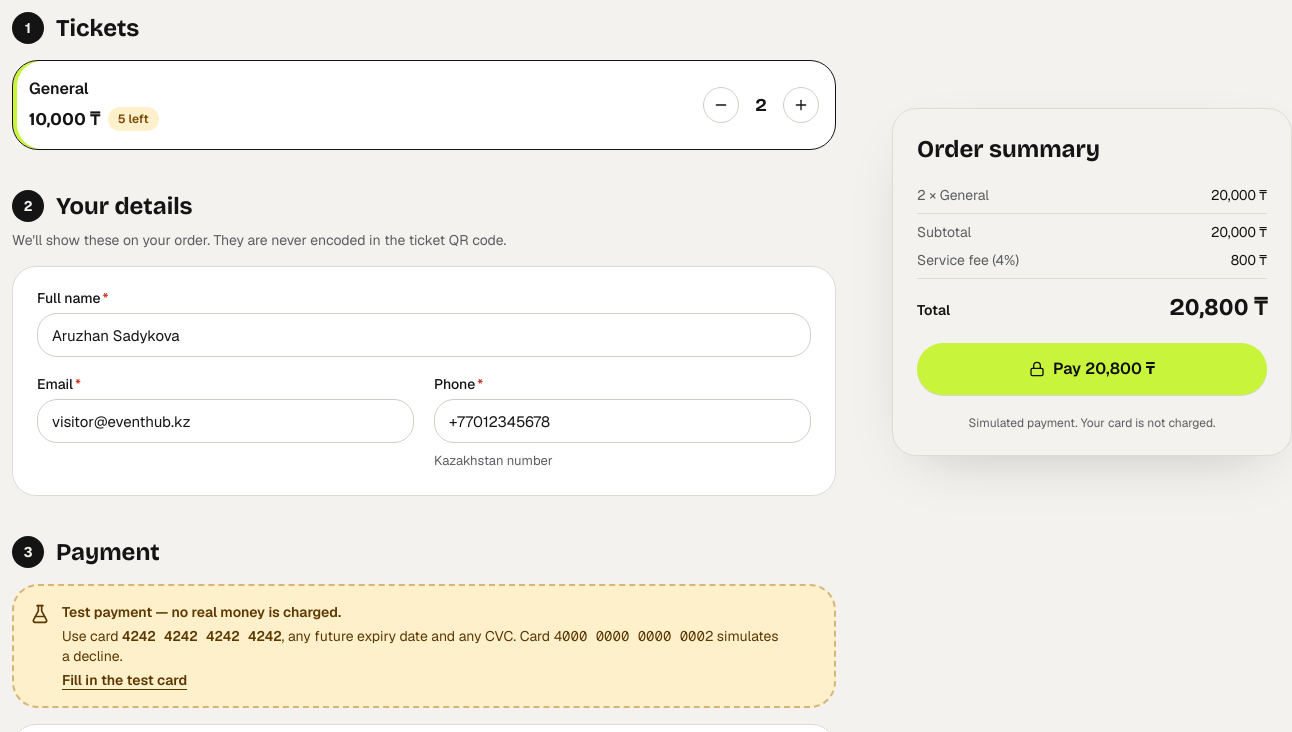
Test: <CheckoutForm /> › shows the server error when tickets run out
Click the button "Fill in the test card" at (125, 680), box [62,670,187,690]
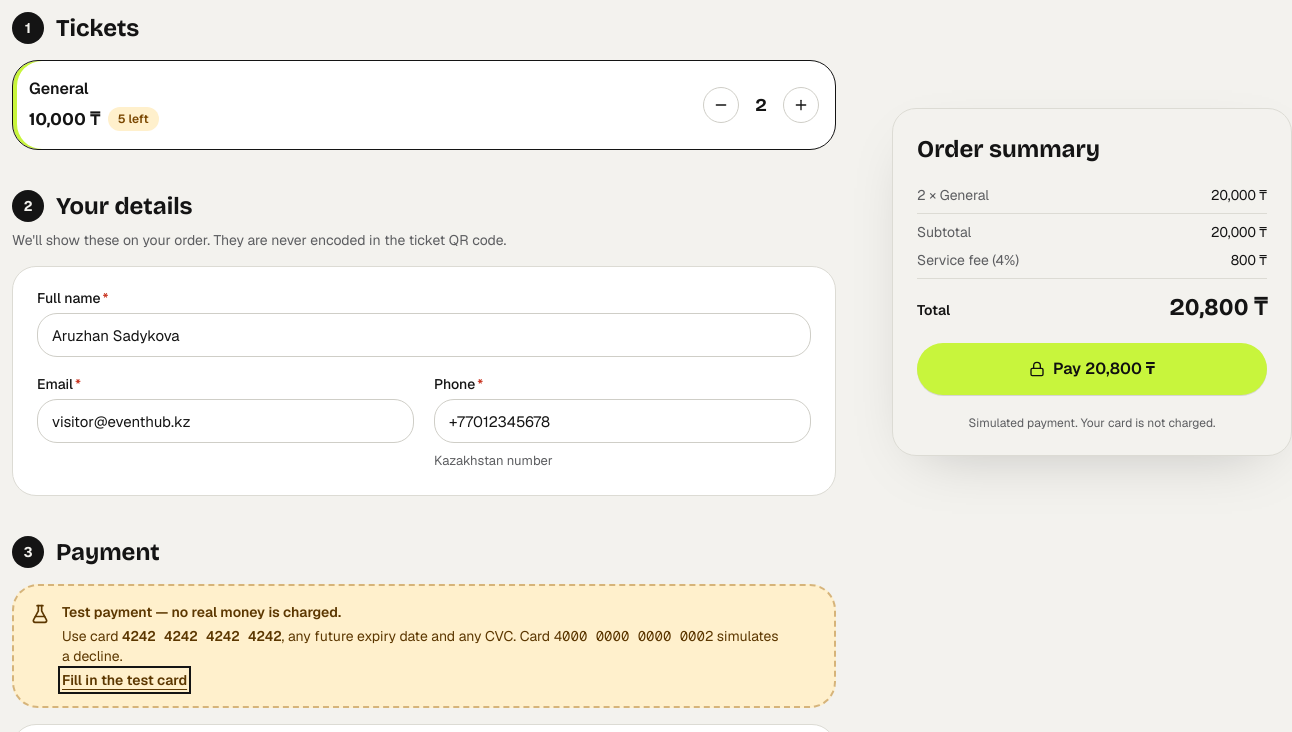
Click the button "Pay 20,800 ₸" at (1092, 369), box [917,343,1267,395]
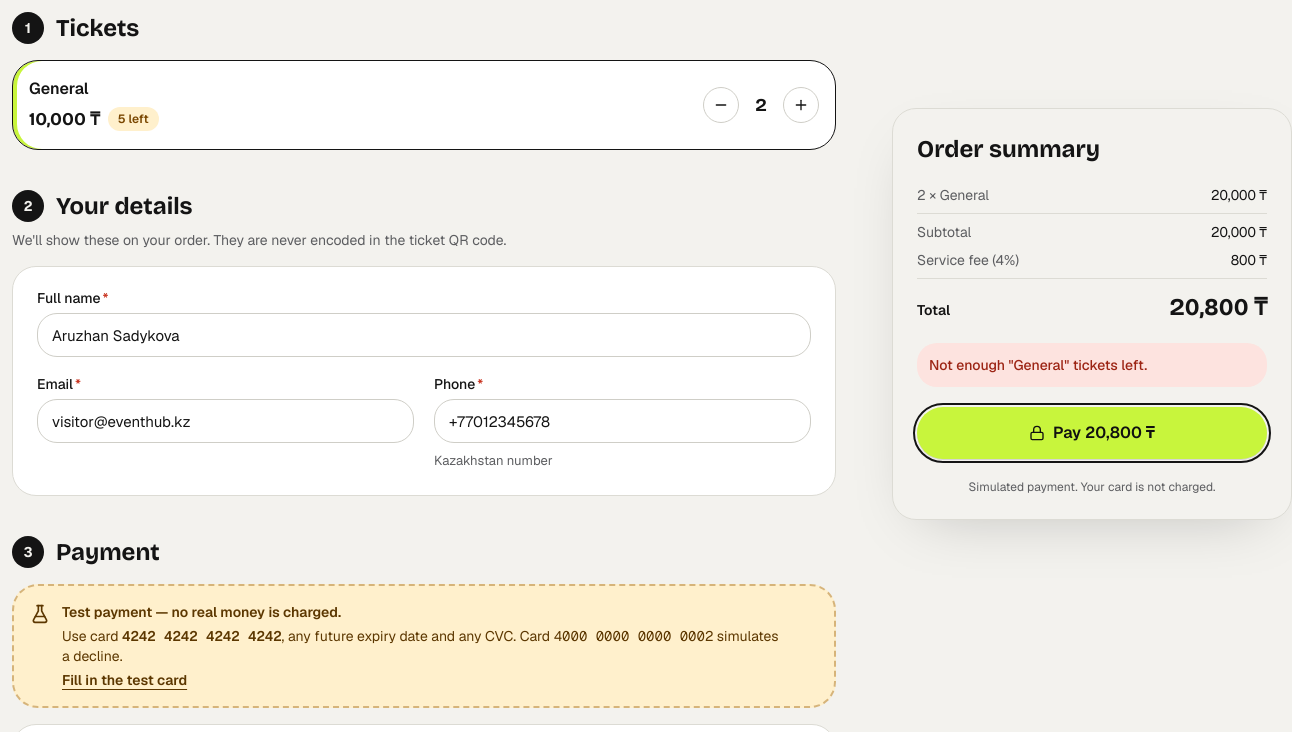
Expected: the text "Not enough \"General\" tickets left." is shown, [917,343,1267,387]
